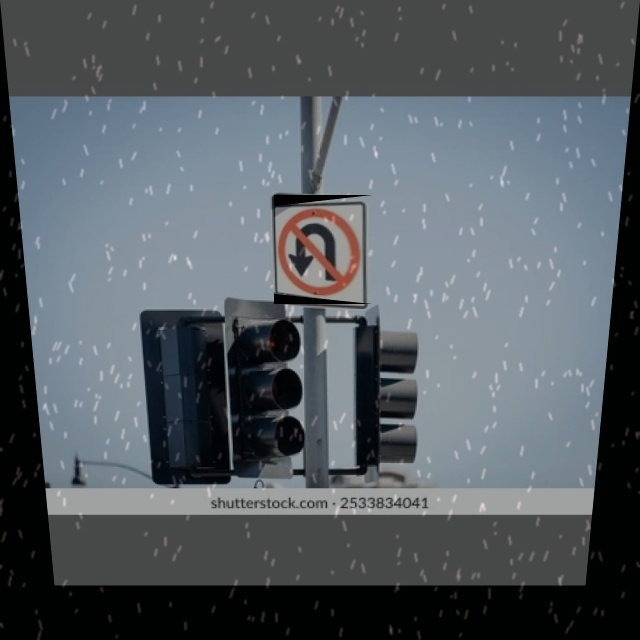U_Turn_Prohibited: (274, 195, 373, 304)
